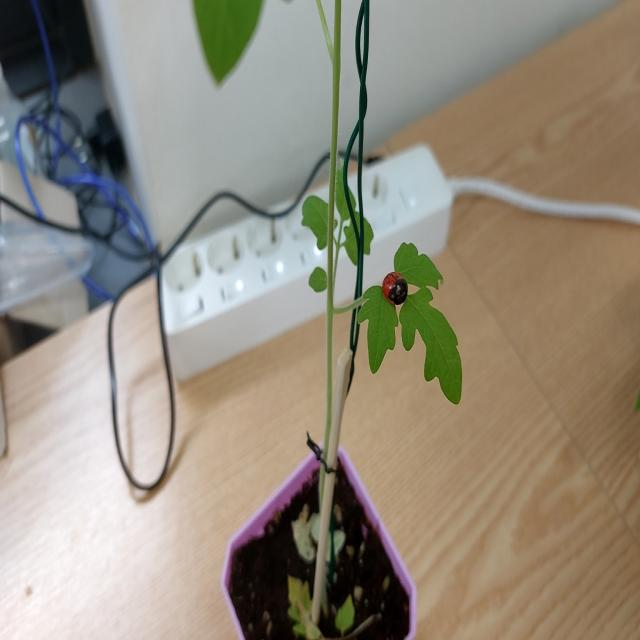bug: (372, 252, 412, 311)
